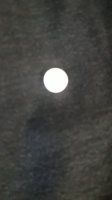Arveles: (42, 67, 69, 94)
